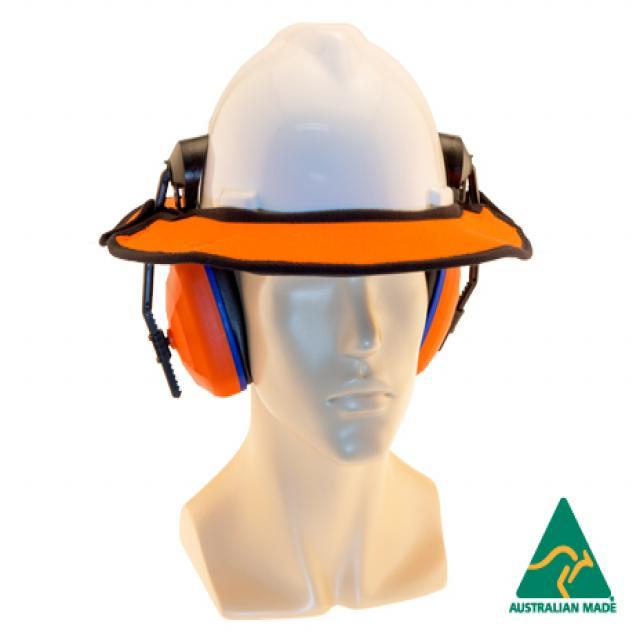safety_helmet: (114, 20, 533, 265)
